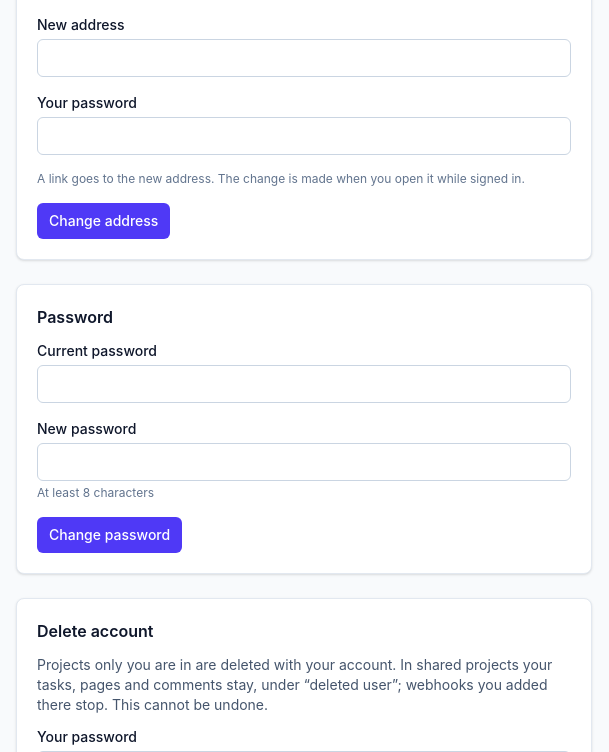
changing the password › sends both passwords, confirms and clears the form
The width and height of the screenshot is (609, 752).
(page scrolled)
Step 1. Type "old password 1" into the password field labelled "Current password" → (304,384), box [37,365,571,403]
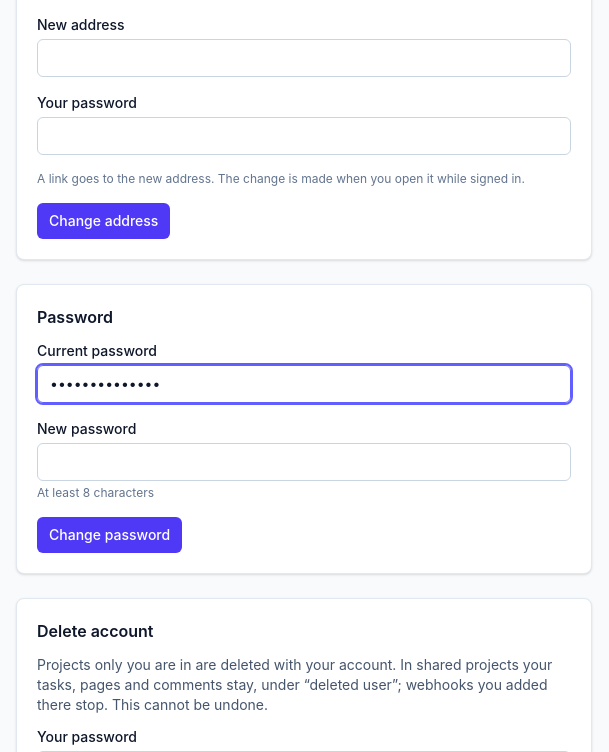
Step 2. Type "new password 2" into the password field labelled "New password" → (304,462), box [37,443,571,481]
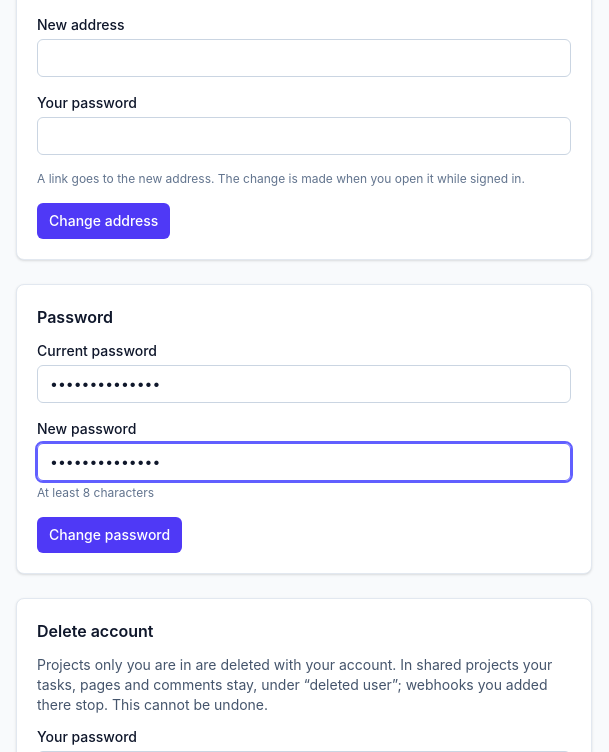
Step 3. Click the button "Change password" → (110,535), box [37,517,182,553]
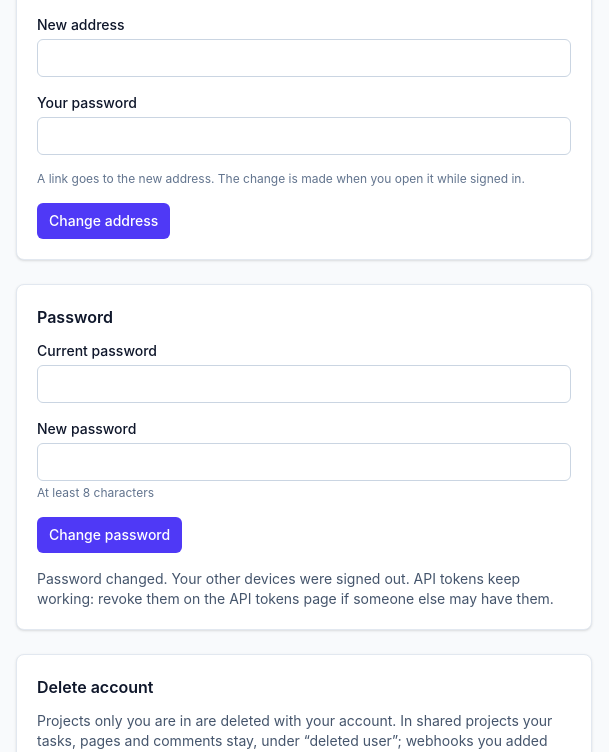
expect the text "Password changed" is shown: met, box [37,570,554,607]
expect the password field labelled "Current password" is empty: met, box [37,365,571,403]
